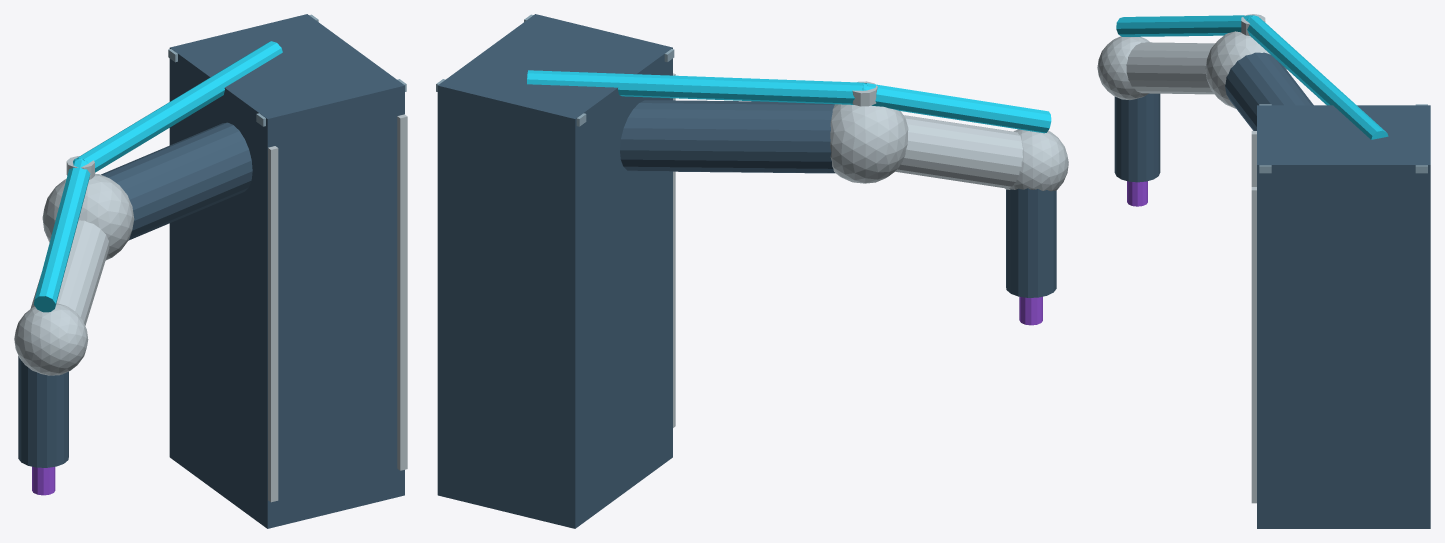
The model's file is 45_L74_DeveloperDispensingNozzle.fbx.
3 renders of one model, left to right at view 1: azimuth 30°, elevation 25°; view 2: azimuth 150°, elevation 25°; view 3: azimuth 270°, elevation 25°, orthographic. The views are drawn at different scales.
Visible parts, largest first — view 1: DeveloperDispensingNozzle, DeveloperDispensingNozzle_Part_0007, DeveloperDispensingNozzle_Part_0013, DeveloperDispensingNozzle_Part_0012, DeveloperDispensingNozzle_Part_0009, DeveloperDispensingNozzle_Part_0010, DeveloperDispensingNozzle_Part_0014; view 2: DeveloperDispensingNozzle, DeveloperDispensingNozzle_Part_0007, DeveloperDispensingNozzle_Part_0010, DeveloperDispensingNozzle_Part_0013, DeveloperDispensingNozzle_Part_0009, DeveloperDispensingNozzle_Part_0012; view 3: DeveloperDispensingNozzle, DeveloperDispensingNozzle_Part_0010, DeveloperDispensingNozzle_Part_0013, DeveloperDispensingNozzle_Part_0007, DeveloperDispensingNozzle_Part_0009, DeveloperDispensingNozzle_Part_0012, DeveloperDispensingNozzle_Part_0014.
Boxes of the visible parts, x1,y1,x2,y2 form: DeveloperDispensingNozzle: (33,14,407,528); DeveloperDispensingNozzle_Part_0007: (101,122,252,240); DeveloperDispensingNozzle_Part_0013: (18,356,68,467); DeveloperDispensingNozzle_Part_0012: (14,303,88,375); DeveloperDispensingNozzle_Part_0009: (42,173,134,260); DeveloperDispensingNozzle_Part_0010: (30,220,109,325); DeveloperDispensingNozzle_Part_0014: (32,466,55,495); DeveloperDispensingNozzle: (436,14,1051,528); DeveloperDispensingNozzle_Part_0007: (620,100,835,173); DeveloperDispensingNozzle_Part_0010: (895,115,1022,188); DeveloperDispensingNozzle_Part_0013: (1006,188,1056,297); DeveloperDispensingNozzle_Part_0009: (830,104,908,183); DeveloperDispensingNozzle_Part_0012: (1005,129,1068,191); DeveloperDispensingNozzle: (1116,14,1430,528); DeveloperDispensingNozzle_Part_0010: (1126,42,1214,94); DeveloperDispensingNozzle_Part_0013: (1114,93,1160,182); DeveloperDispensingNozzle_Part_0007: (1225,52,1313,130); DeveloperDispensingNozzle_Part_0009: (1205,31,1286,108); DeveloperDispensingNozzle_Part_0012: (1097,36,1149,99); DeveloperDispensingNozzle_Part_0014: (1127,181,1147,206).
Bounding box in the file's own units: 130 × 113 × 92.09.
